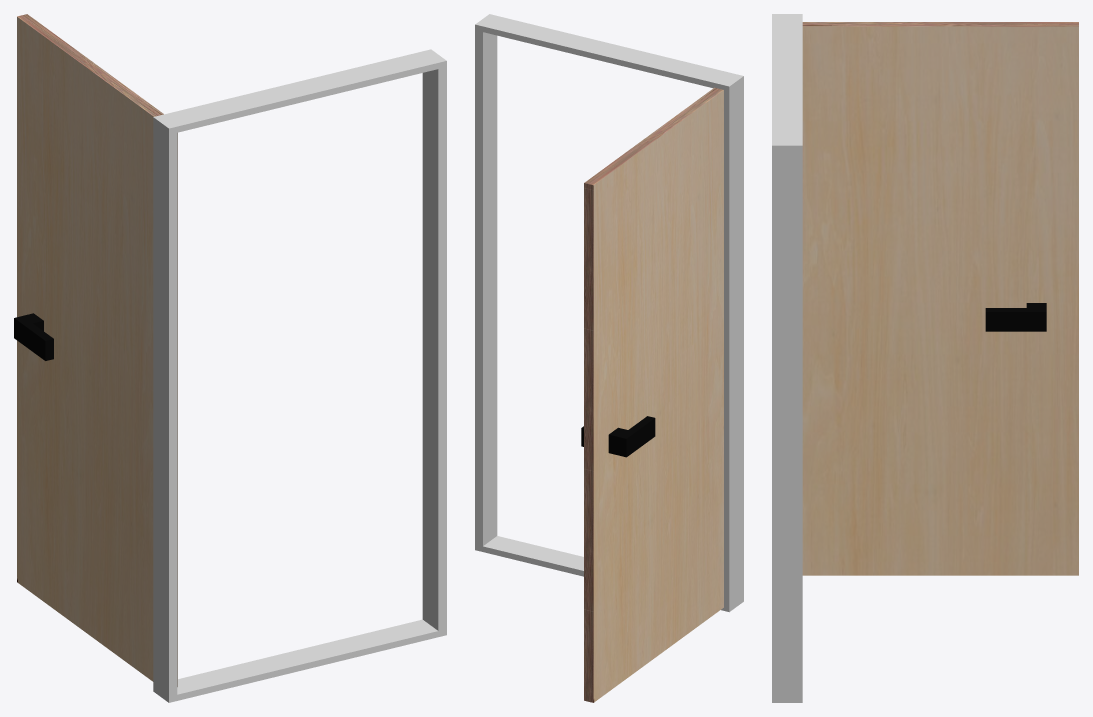
The picture shows the model from 3 angles, left to right: view 1: azimuth 30°, elevation 25°; view 2: azimuth 150°, elevation 25°; view 3: azimuth 270°, elevation 25°; orthographic projection. The views are drawn at different scales.
Visible parts, largest first — view 1: door, Cube; view 2: door, Cube; view 3: door, Cube.
Part boxes in pixels (x1,y1,x2,y2): door: [14, 14, 177, 687]; Cube: [153, 49, 446, 702]; door: [581, 87, 723, 702]; Cube: [475, 14, 743, 612]; door: [802, 22, 1078, 575]; Cube: [772, 14, 802, 702].
Size of the model in its own units: 684 by 1372 by 728.
